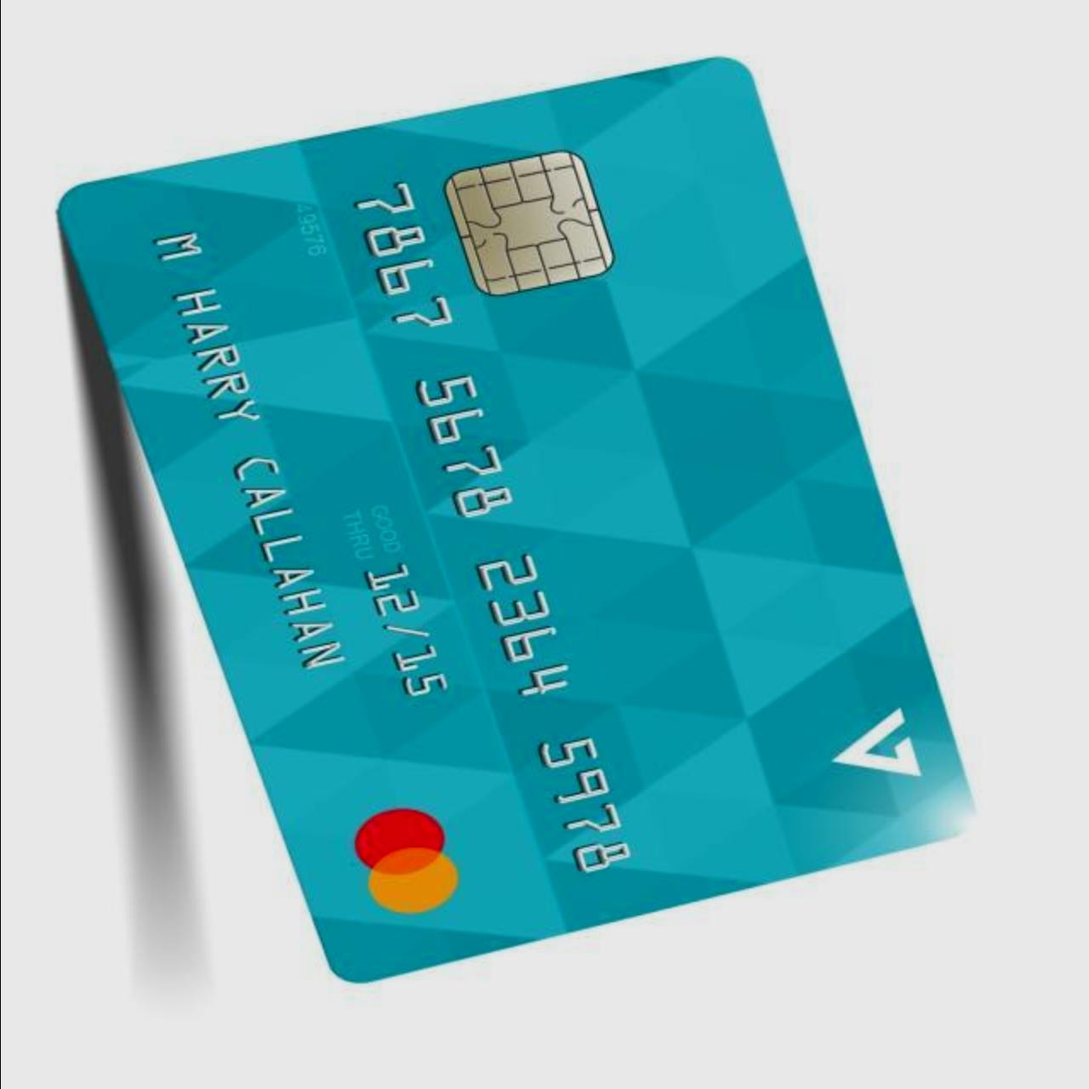credit_card: (44, 48, 990, 997)
